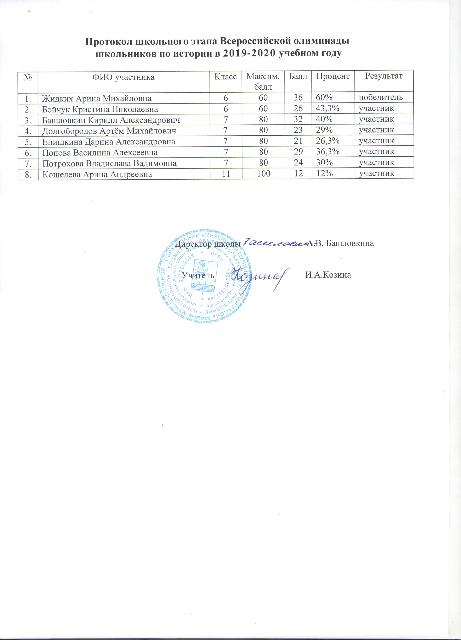stamp: (158, 230, 250, 322)
